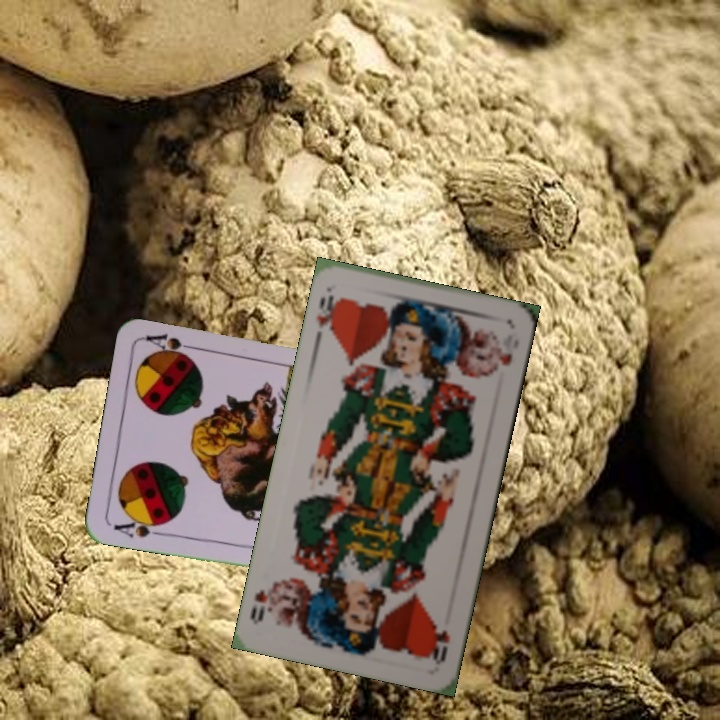HO: (312, 291, 343, 338), (426, 620, 453, 667)
SA: (109, 512, 169, 541)
